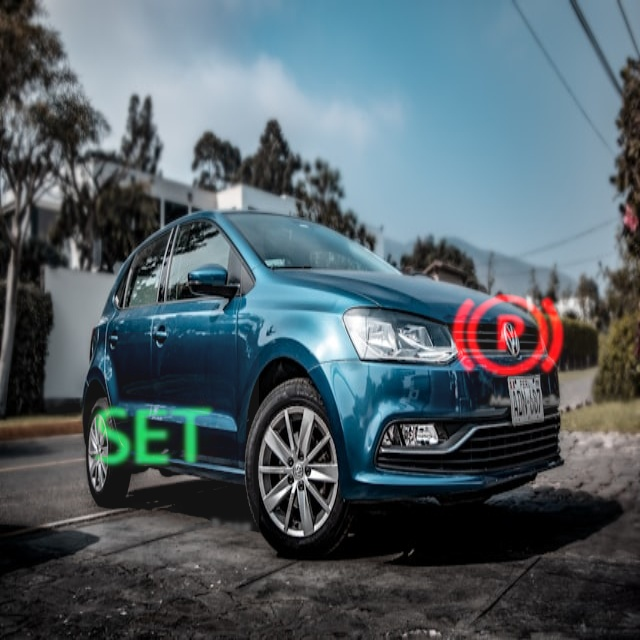symbol: (47, 332, 259, 544), (430, 259, 584, 413)
